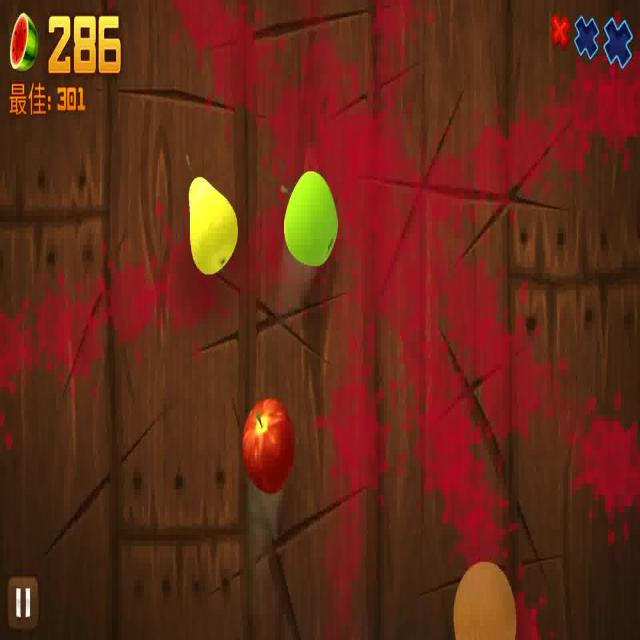fruit: (279, 173, 337, 264), (454, 559, 515, 640), (187, 179, 237, 275), (242, 396, 291, 493)
